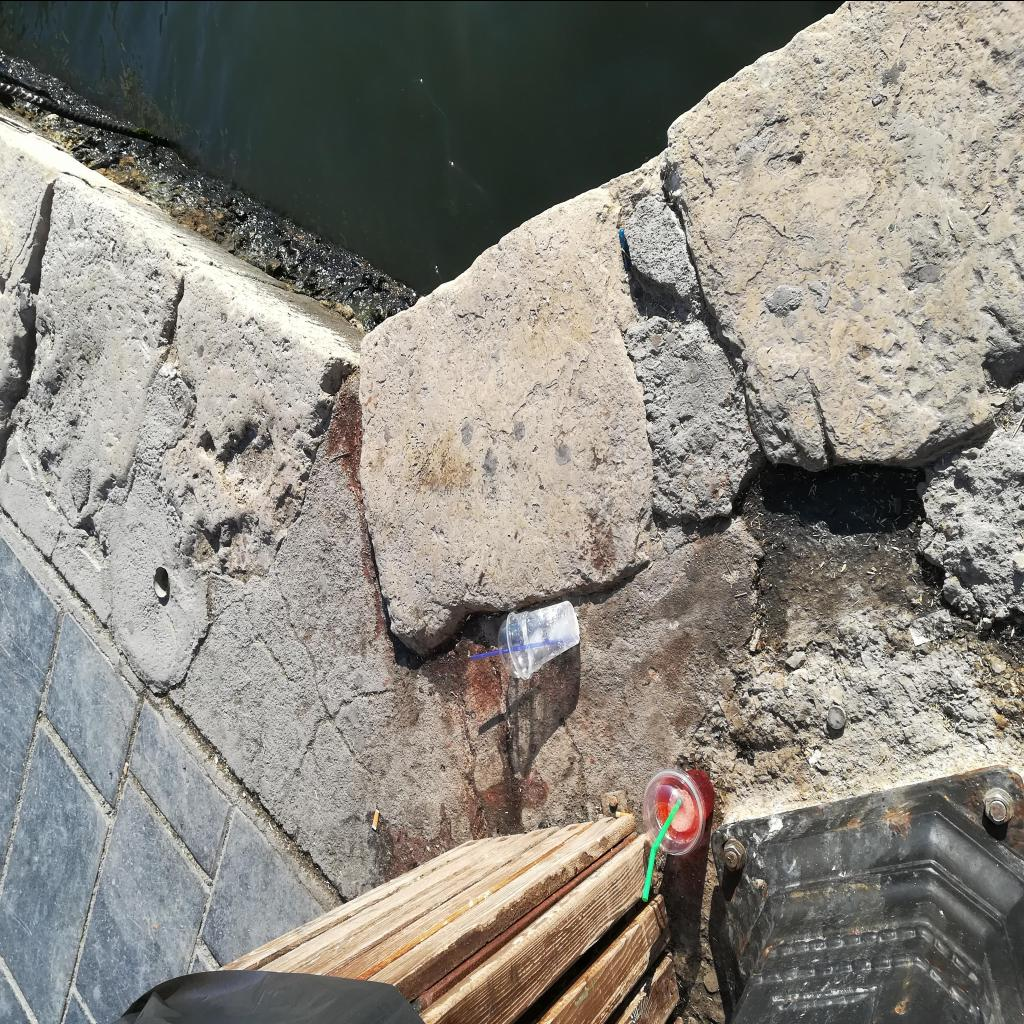Cigarette: (372, 808, 380, 830), (122, 762, 130, 778), (616, 811, 633, 817)
Disposable plastic cup: (642, 766, 715, 856), (498, 600, 580, 680)
Plastic lid: (642, 766, 706, 856), (498, 611, 526, 679)
Plastic straw: (642, 799, 681, 901), (470, 638, 566, 660)
